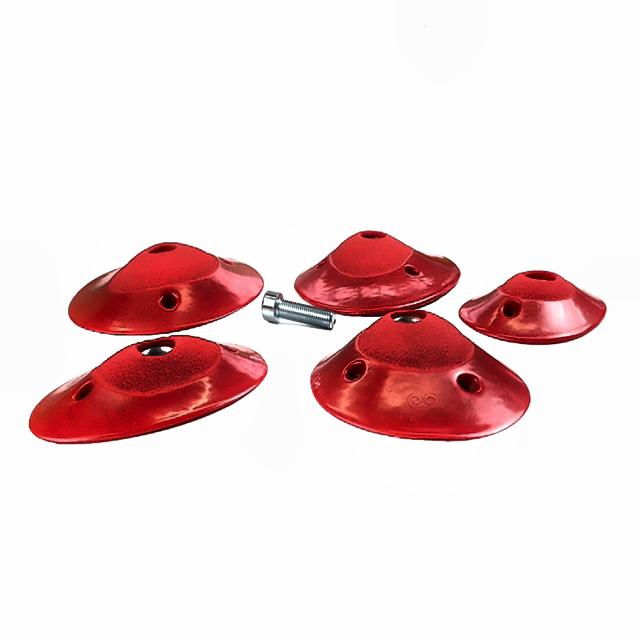Hold: (314, 306, 528, 446), (26, 338, 270, 448), (68, 241, 264, 334), (296, 228, 459, 317), (463, 261, 609, 346)
